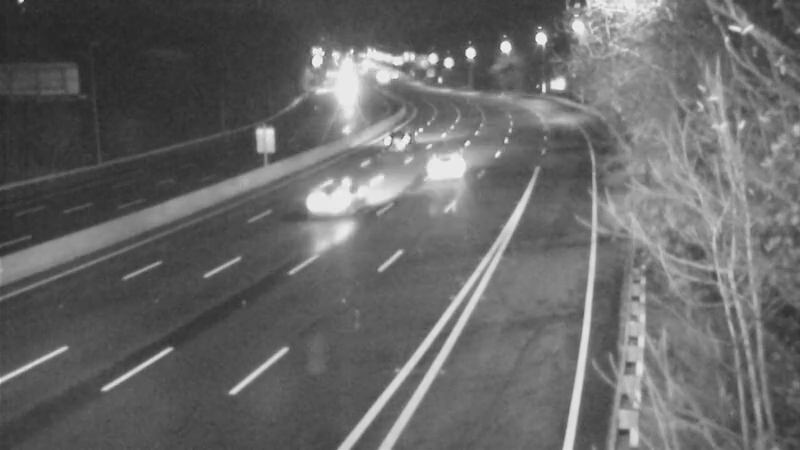vehicle: (410, 126, 490, 206), (297, 158, 377, 238), (373, 112, 423, 162)
